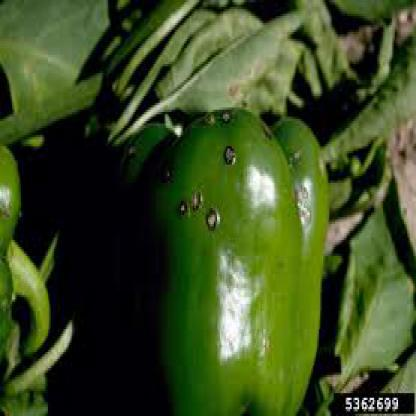capsicum_rotten: (108, 73, 349, 400)
